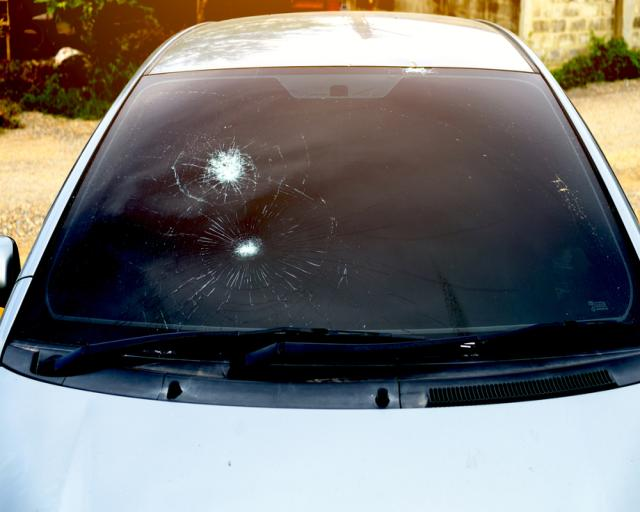glass shatter: (12, 66, 640, 347)
